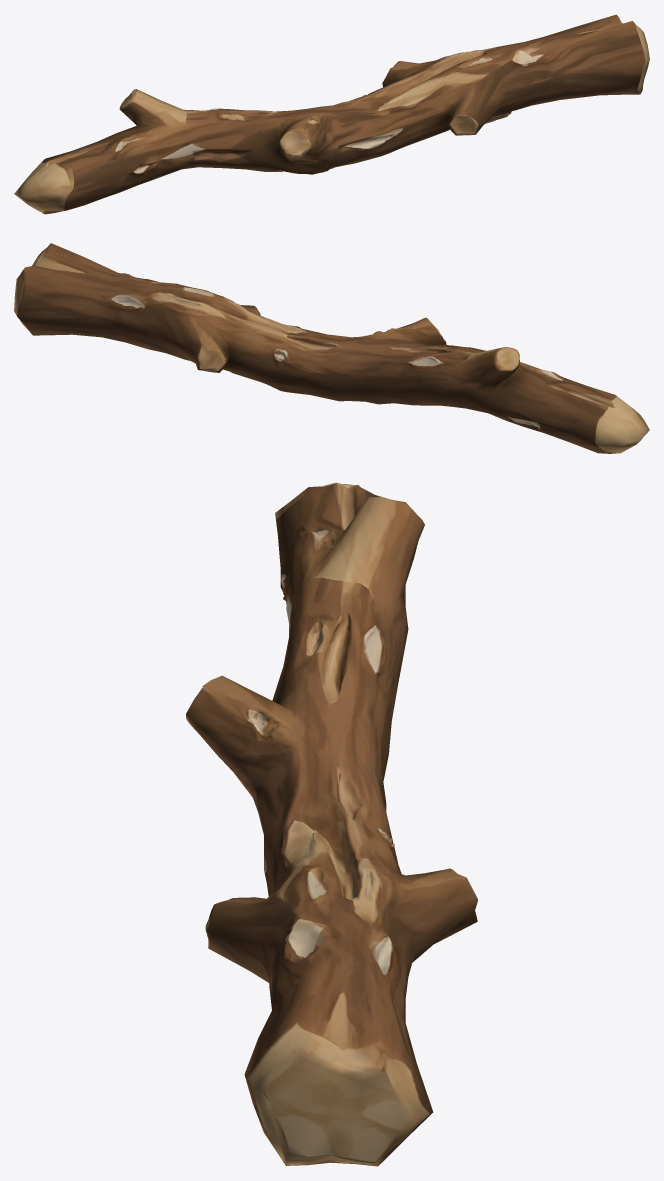
The model's file is selected.glb.
The picture shows the model from 3 angles, top to bottom: view 1: azimuth 30°, elevation 25°; view 2: azimuth 150°, elevation 25°; view 3: azimuth 270°, elevation 25°; orthographic projection. The views are drawn at different scales.
Visible parts, largest first — view 1: tripo_node_ad18b4bf-6069-46bf-9d7f-bca50e6e0226; view 2: tripo_node_ad18b4bf-6069-46bf-9d7f-bca50e6e0226; view 3: tripo_node_ad18b4bf-6069-46bf-9d7f-bca50e6e0226.
Part boxes in pixels (x1,y1,x2,y2): tripo_node_ad18b4bf-6069-46bf-9d7f-bca50e6e0226: (14, 14, 649, 214); tripo_node_ad18b4bf-6069-46bf-9d7f-bca50e6e0226: (14, 243, 649, 453); tripo_node_ad18b4bf-6069-46bf-9d7f-bca50e6e0226: (186, 482, 477, 1166).
Bounding box in the file's own units: 0.998 × 0.166 × 0.2051.
1 material, 1 textured.
